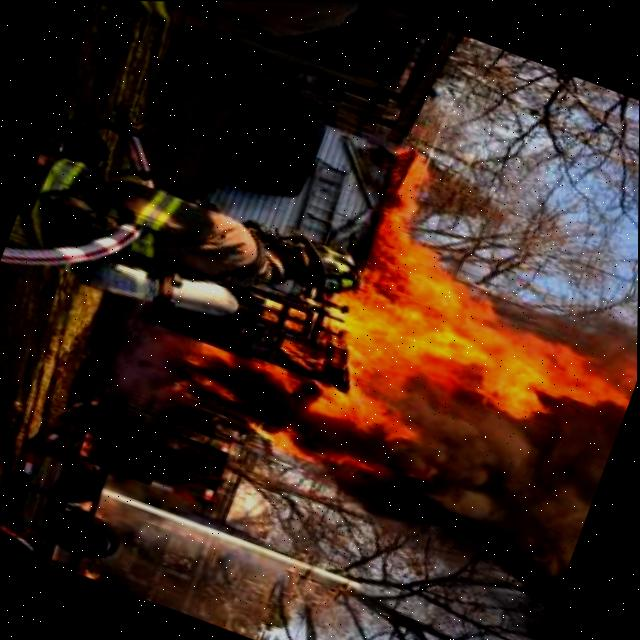Fire: (344, 150, 639, 422), (151, 260, 424, 487)
Smoke: (360, 352, 621, 598)
